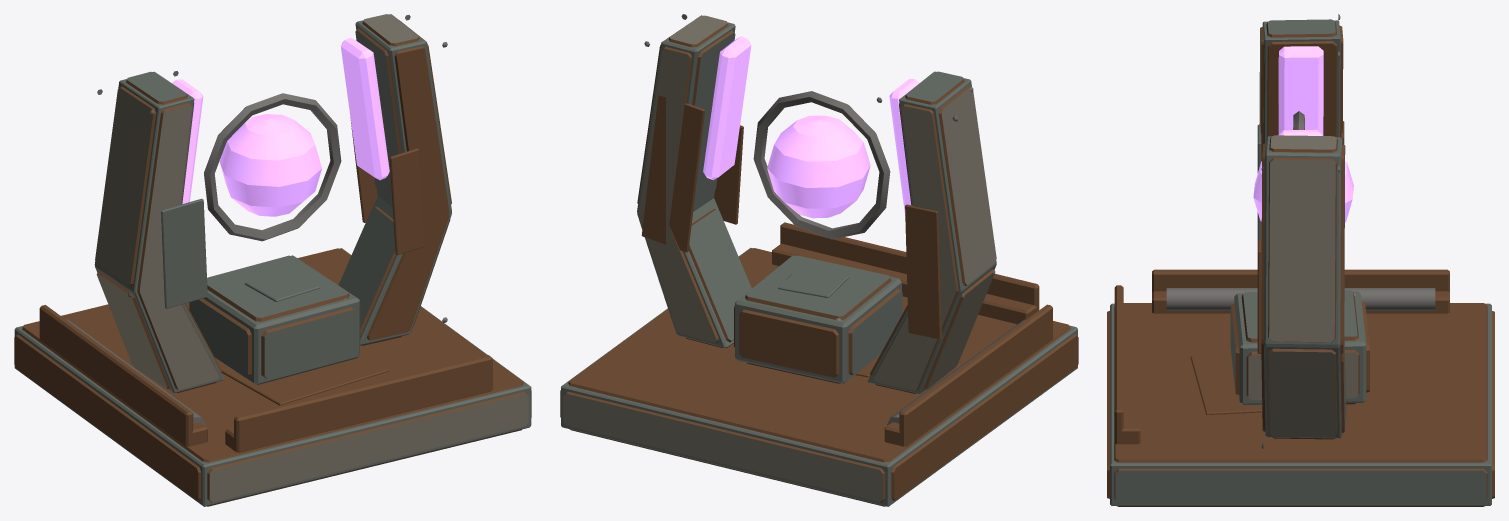
Rendered from R4X_Blink.fbx.
3 views of the same model, side by side, from view 1: azimuth 30°, elevation 25°; view 2: azimuth 150°, elevation 25°; view 3: azimuth 270°, elevation 25° (orthographic).
Parts seen in each view (by area): view 1: R4X_Blink_Body; view 2: R4X_Blink_Body; view 3: R4X_Blink_Body.
Part boxes in pixels (bbox=[...]): R4X_Blink_Body: bbox=[14, 14, 531, 506]; R4X_Blink_Body: bbox=[560, 14, 1078, 506]; R4X_Blink_Body: bbox=[1107, 14, 1494, 506].
Bounding box in the file's own units: 0.52 × 0.51 × 0.52.
